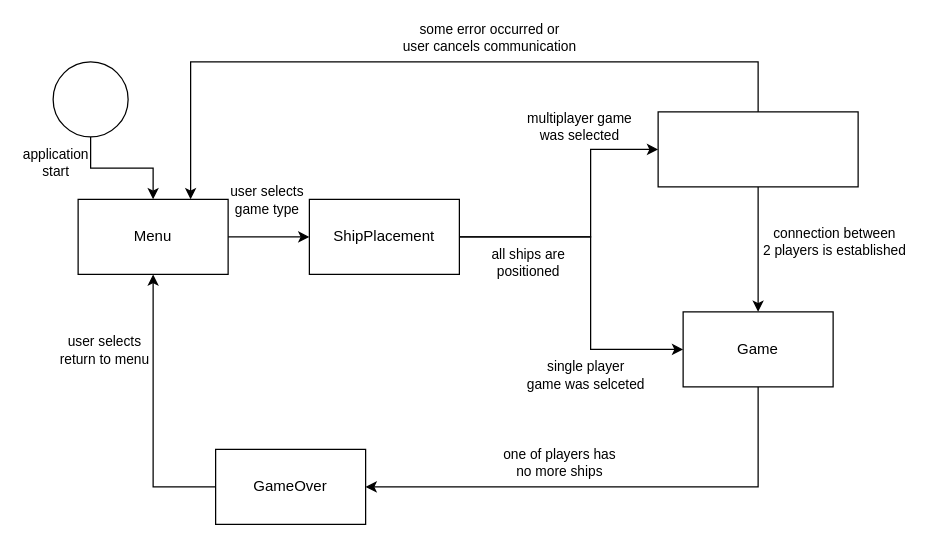
The diagram is 926 pixels wide and 546 high, and some of its shapes have lost their labels. The box of each missing label's shape, as (x1, y1, x2, y2) in pixels:
CommunicationScreen: (657, 111, 858, 187)
internal empty state: (52, 61, 128, 137)
